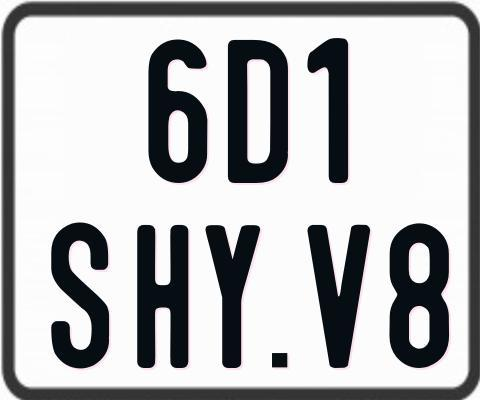1: (307, 38, 354, 184)
6: (146, 38, 210, 184)
8: (387, 222, 451, 371)
D: (225, 37, 286, 186)
H: (136, 224, 193, 371)
S: (49, 220, 108, 365)
V: (308, 223, 372, 371)
Y: (204, 222, 262, 371)
